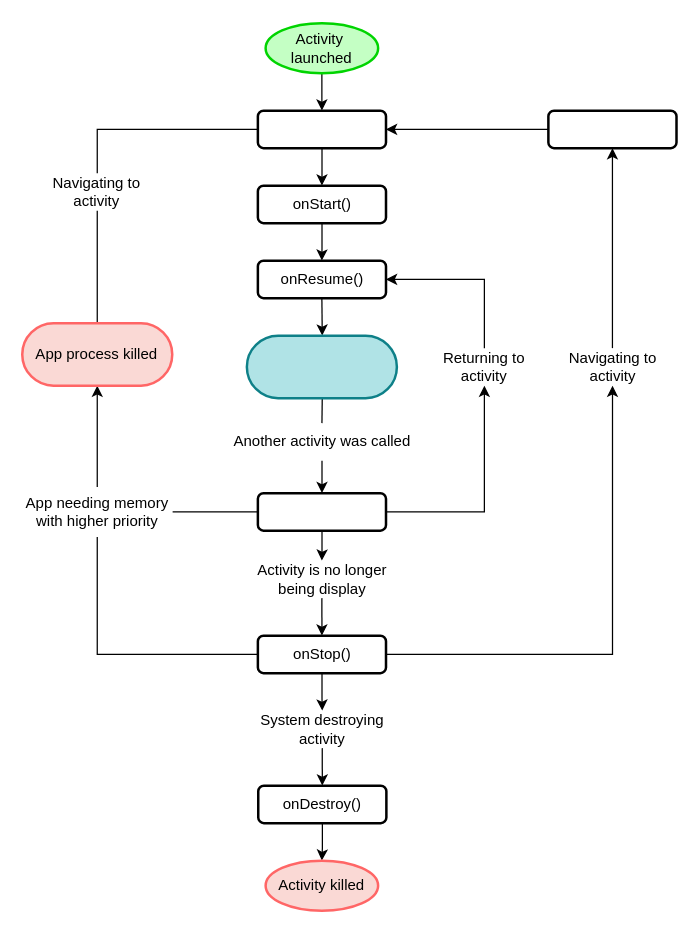
The diagram is 700 pixels wide and 933 high, and some of its shapes have lost their labels. The box of each missing label's shape, as (x1, y1, x2, y2) in pixels:
Activity running: (245, 334, 398, 399)
onCreate(): (256, 109, 387, 149)
onPause(): (256, 491, 387, 531)
onRestart(): (546, 109, 677, 149)
